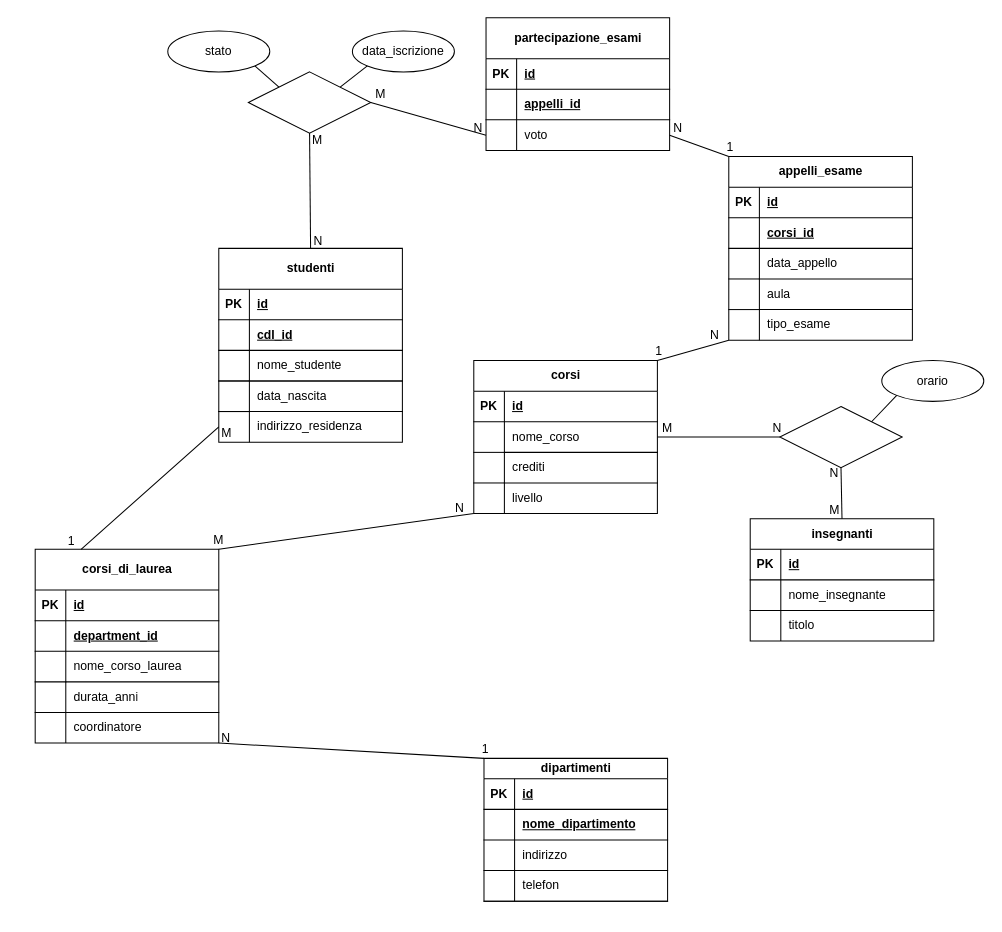
This 1002x932 diagram has some shape labels left out. Here are the shapes that lost their labels. From the top down, the centre of each, then its label:
At (309,102): "cdl_studenti".
At (840,436): "corsi_insegnanti".
